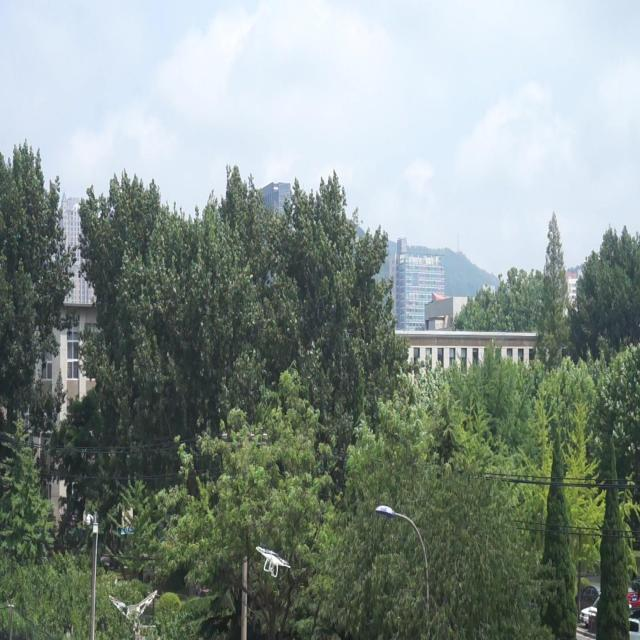UAV: (256, 546, 291, 577)
